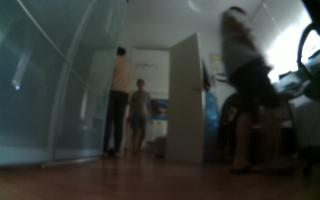person: (209, 3, 303, 183), (101, 43, 129, 161), (128, 76, 154, 159)
